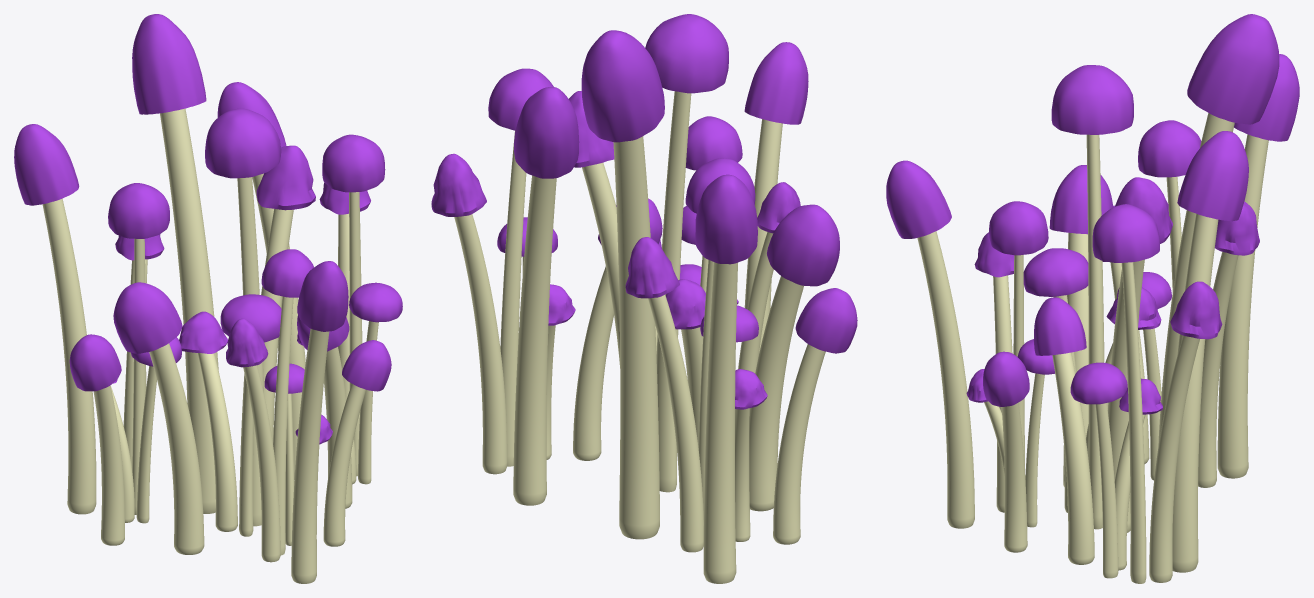
File: mushrooms_one.glb
3 renders of one model, left to right at view 1: azimuth 30°, elevation 25°; view 2: azimuth 150°, elevation 25°; view 3: azimuth 270°, elevation 25°, orthographic. The views are drawn at different scales.
Visible parts, largest first — view 1: mushOne; view 2: mushOne; view 3: mushOne.
Boxes of the visible parts, left/top/right/bottom form: mushOne: left=14, top=14, right=402, bottom=583; mushOne: left=431, top=14, right=857, bottom=583; mushOne: left=886, top=14, right=1299, bottom=583.
Bounding box in the file's own units: 0.5577 × 0.7518 × 0.5596.
